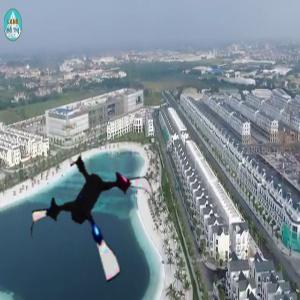drone: (27, 148, 164, 285)
